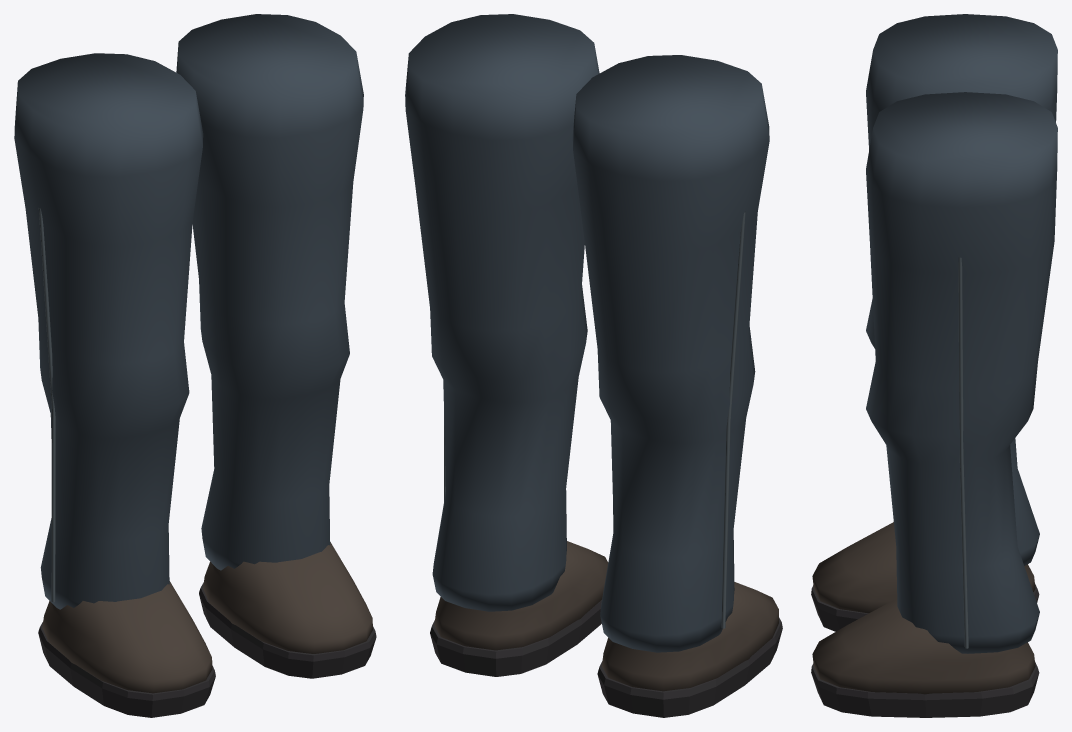
File: AdaTrousers.glb
3 views of the same model, side by side, from view 1: azimuth 30°, elevation 25°; view 2: azimuth 150°, elevation 25°; view 3: azimuth 270°, elevation 25° (orthographic). The views are drawn at different scales.
Visible parts, largest first — view 1: AdaTrousers; view 2: AdaTrousers; view 3: AdaTrousers.
Part boxes in pixels (x1=…): AdaTrousers: x1=14, y1=14, x2=376, y2=717; AdaTrousers: x1=405, y1=14, x2=782, y2=717; AdaTrousers: x1=811, y1=14, x2=1057, y2=717.
Bounding box in the file's own units: 0.554 × 0.944 × 0.374.
